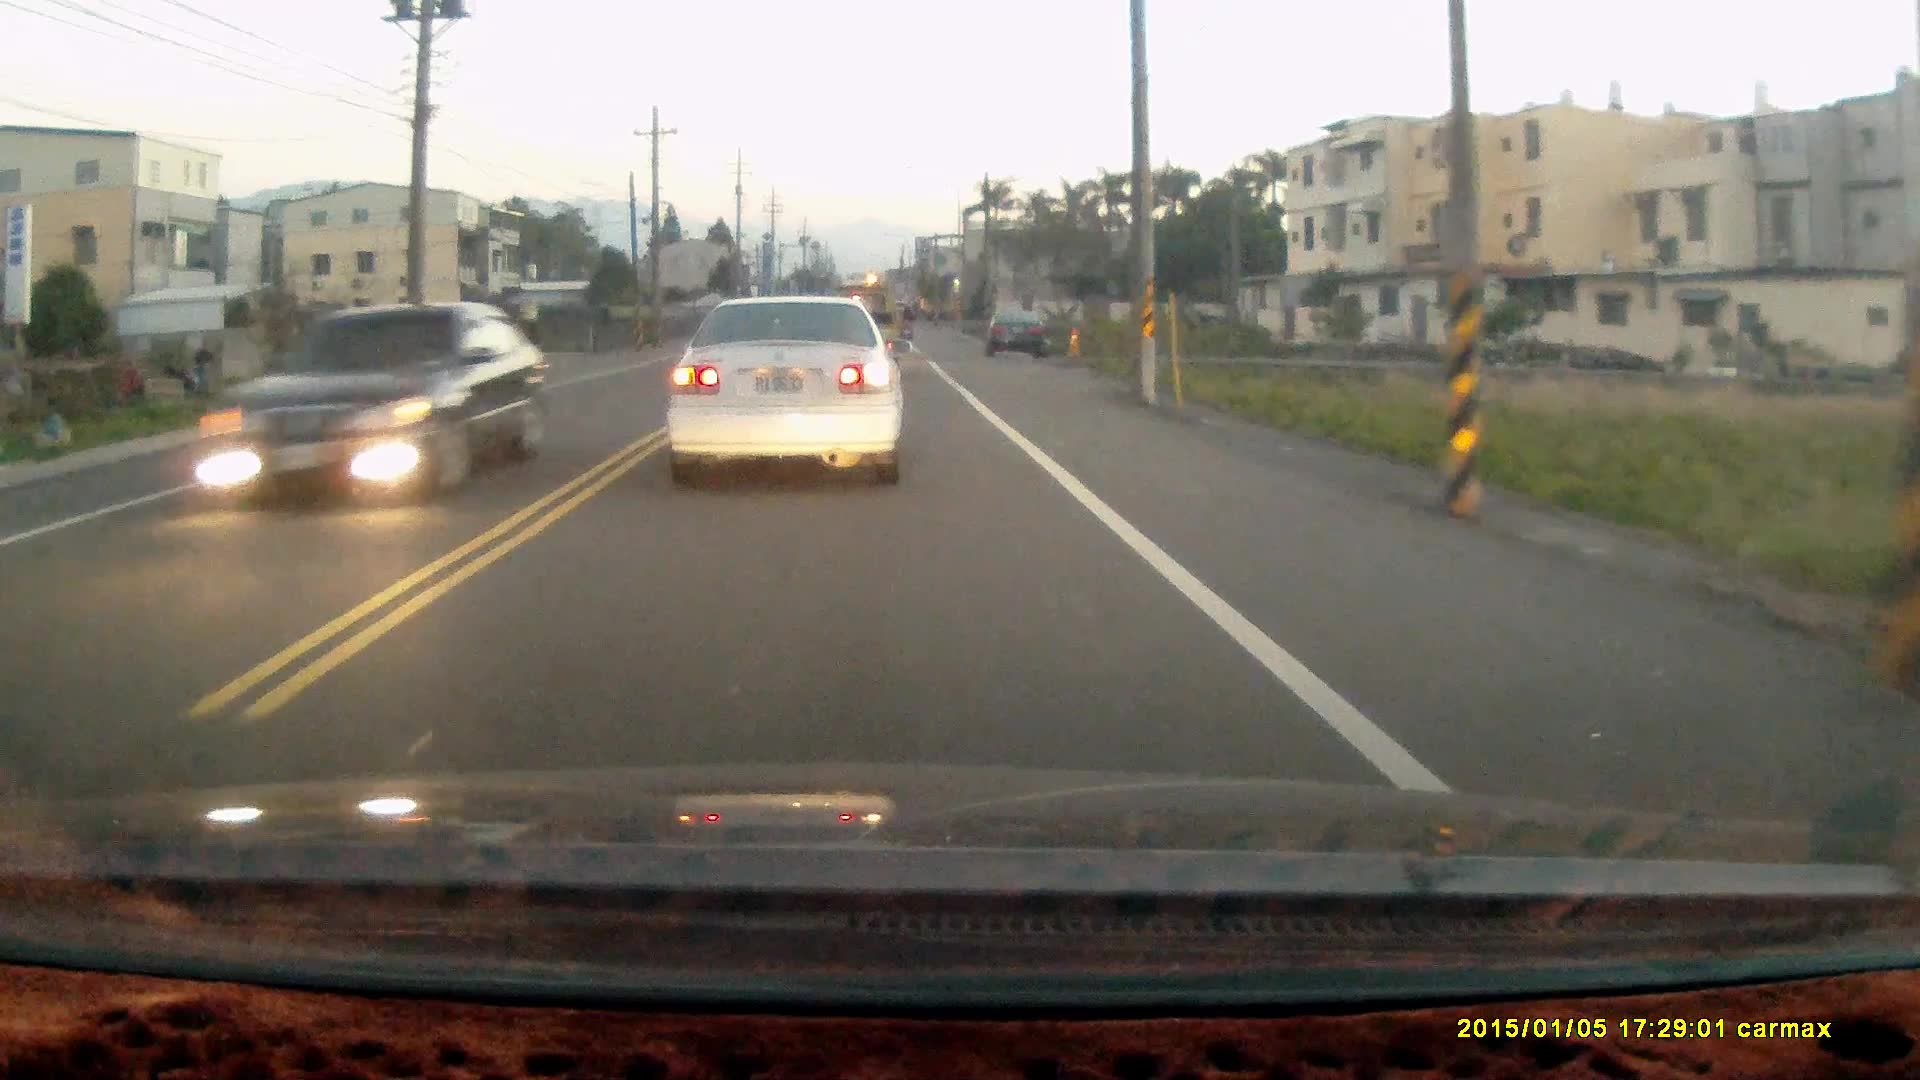pedestrian: (118, 358, 144, 407), (192, 338, 212, 387)
vehicle: (196, 300, 552, 508), (663, 294, 904, 490), (989, 298, 1058, 355)
